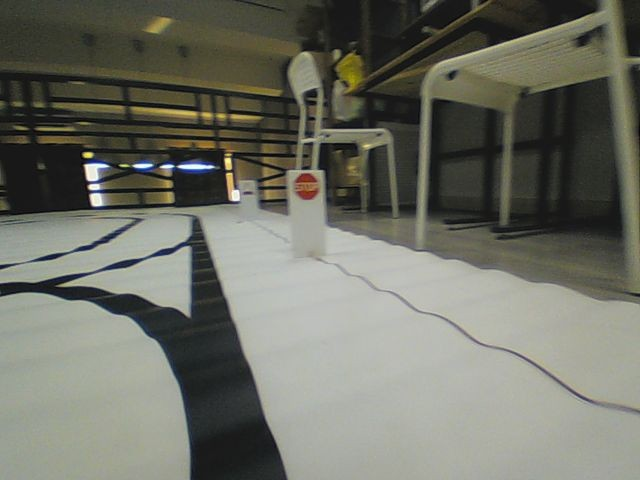Stop: (293, 172, 320, 201)
